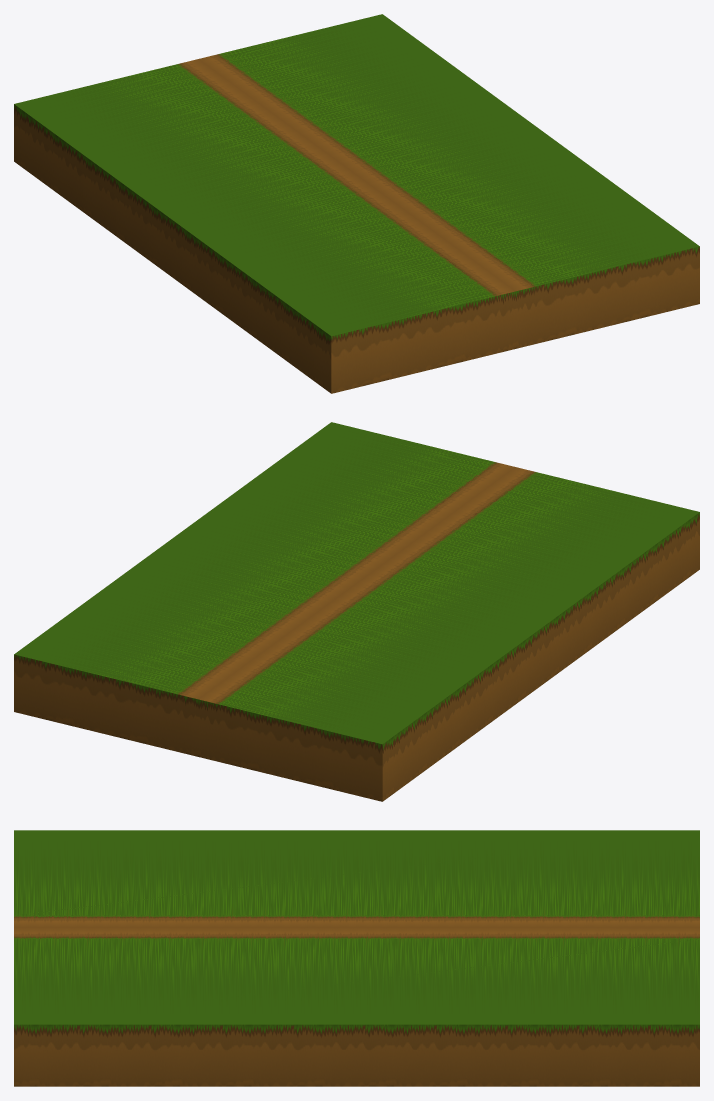
File: forest_ground.fbx
3 views of the same model, one above another, from view 1: azimuth 30°, elevation 25°; view 2: azimuth 150°, elevation 25°; view 3: azimuth 270°, elevation 25° (orthographic). The views are drawn at different scales.
Visible parts, largest first — view 1: pCube13; view 2: pCube13; view 3: pCube13.
Part boxes in pixels (bbox=[...]): pCube13: bbox=[14, 14, 699, 393]; pCube13: bbox=[14, 422, 699, 801]; pCube13: bbox=[14, 830, 699, 1086].
Bounding box in the file's own units: 3352 × 500 × 5000.
Materials: 1 (1 with a texture image).
